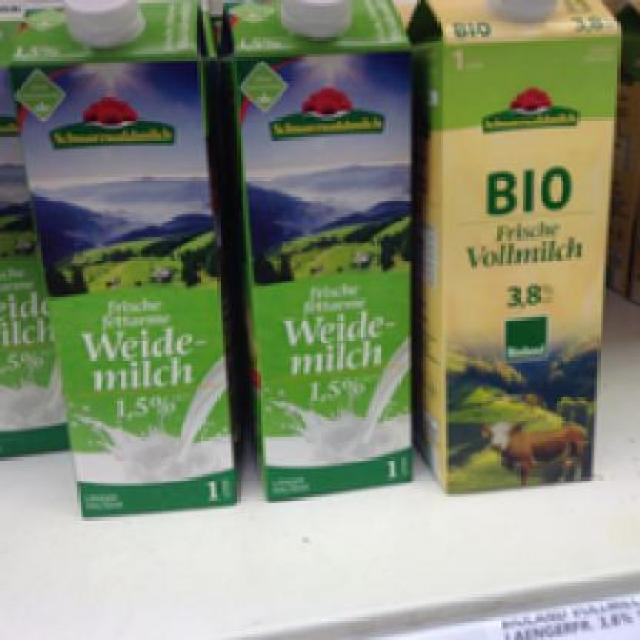Milk: (5, 0, 258, 517), (408, 0, 632, 500), (226, 0, 432, 500)
